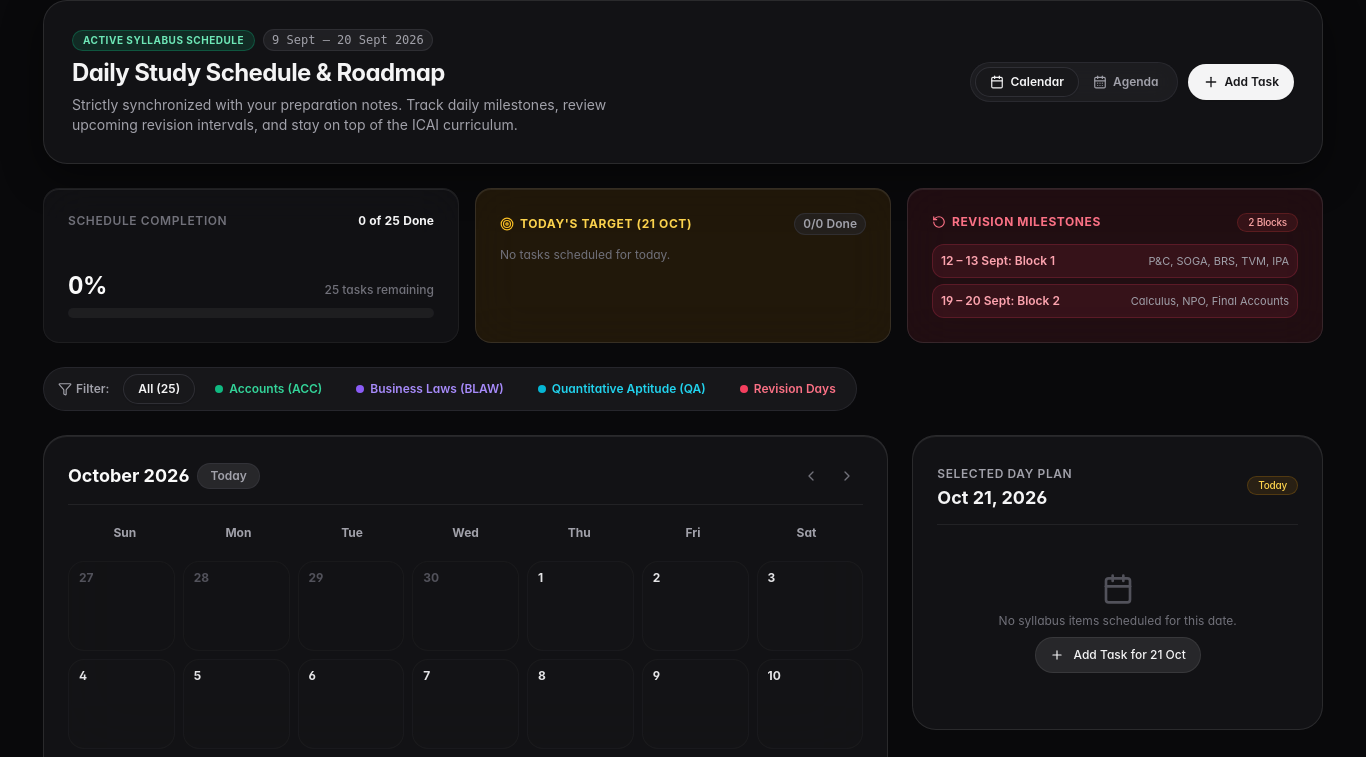
Study Schedule & Interactive Calendar Integration › ScheduleView UI Component › toggles schedule item completion and updates progress
Switch to agenda
Step 1. Click the button "Agenda" → click(1126, 82), box [1079,68,1173,96]
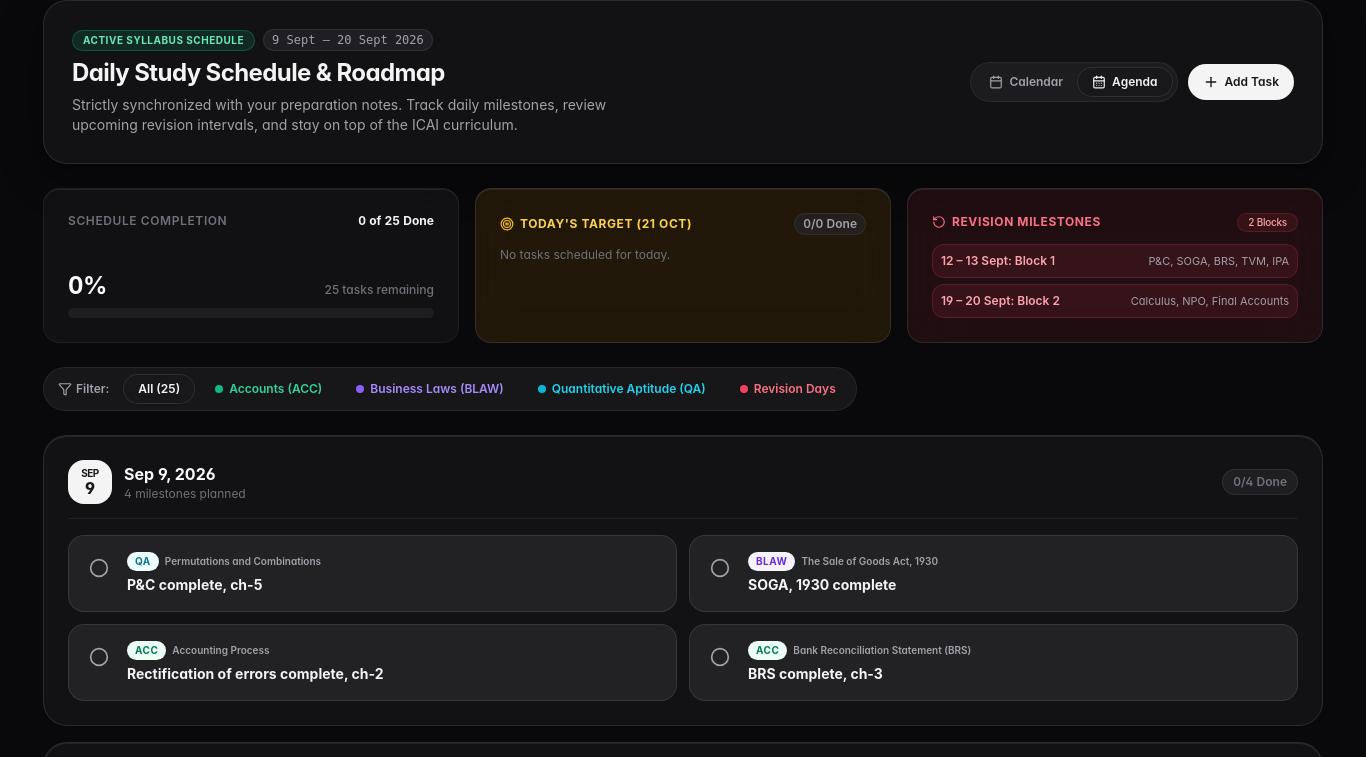
Check: the button named "Mark " is shown
Step 2. Click the button named "Mark " → click(99, 568), box [85,554,113,582]
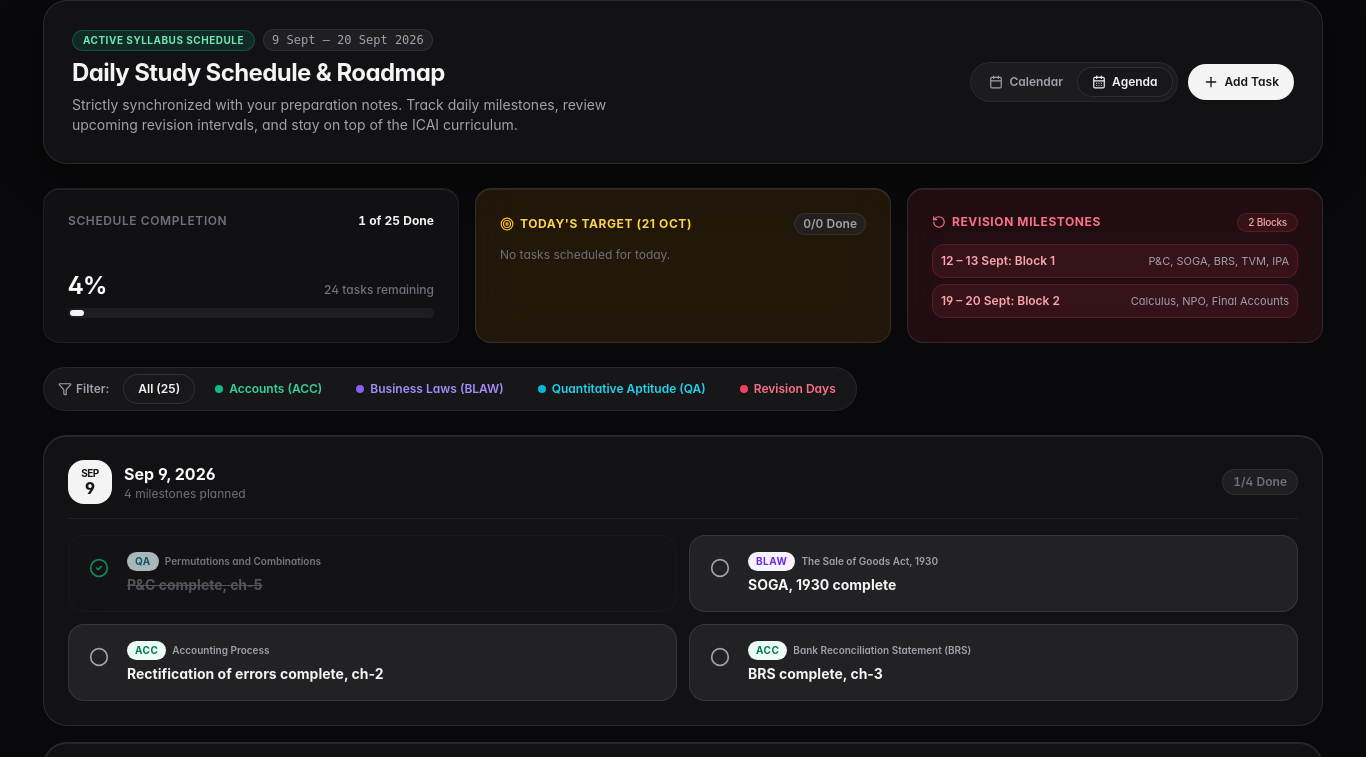
Check: the text "1 of 25 Done" is shown, box [358,213,434,229]
